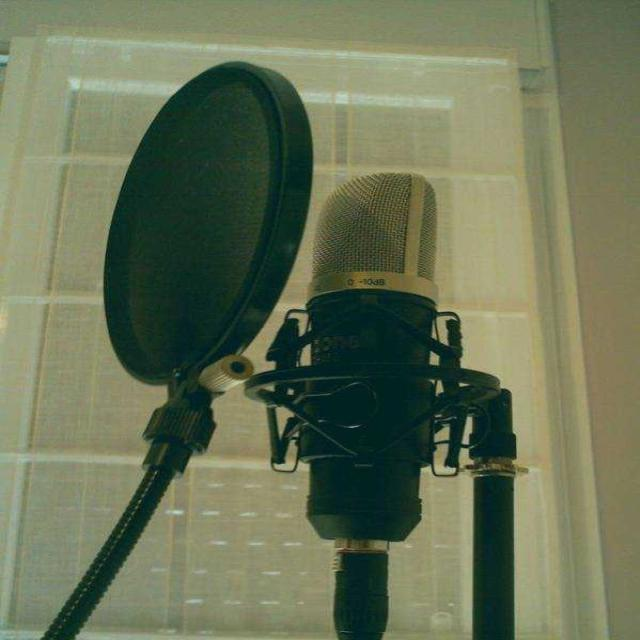microphone: (289, 178, 450, 550)
